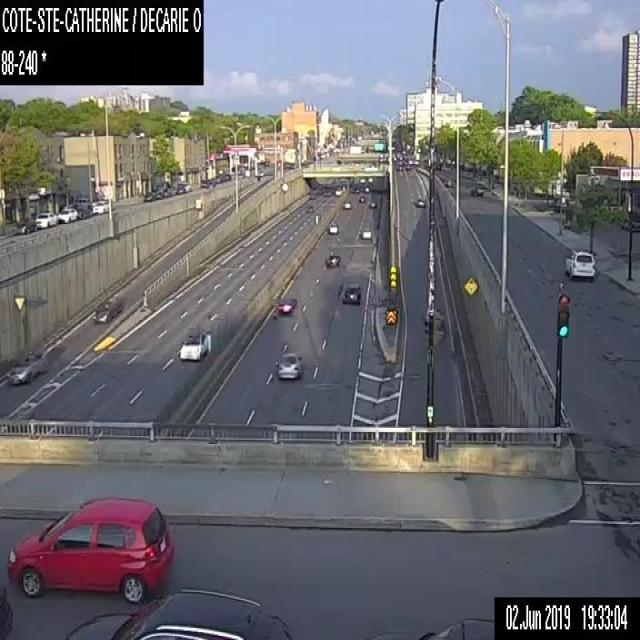vehicle: (8, 497, 173, 600), (64, 587, 298, 639), (362, 616, 494, 639), (6, 349, 44, 383), (178, 329, 210, 362), (564, 246, 596, 278), (92, 295, 124, 324), (275, 352, 304, 380), (0, 584, 14, 639), (341, 281, 361, 304), (275, 296, 296, 316), (35, 212, 57, 228), (13, 218, 35, 233), (57, 207, 77, 222), (92, 199, 108, 213), (325, 253, 341, 267), (470, 184, 484, 196), (143, 190, 155, 202), (414, 196, 426, 207), (77, 197, 89, 207), (328, 222, 338, 234), (362, 227, 371, 239), (304, 200, 312, 213), (182, 182, 191, 190), (368, 200, 377, 208), (200, 179, 208, 187), (323, 189, 331, 196), (176, 185, 184, 192), (358, 194, 365, 202), (344, 201, 351, 208), (334, 188, 341, 195), (364, 184, 369, 192), (224, 173, 230, 179), (367, 176, 372, 182), (359, 177, 365, 182), (354, 186, 358, 192)
